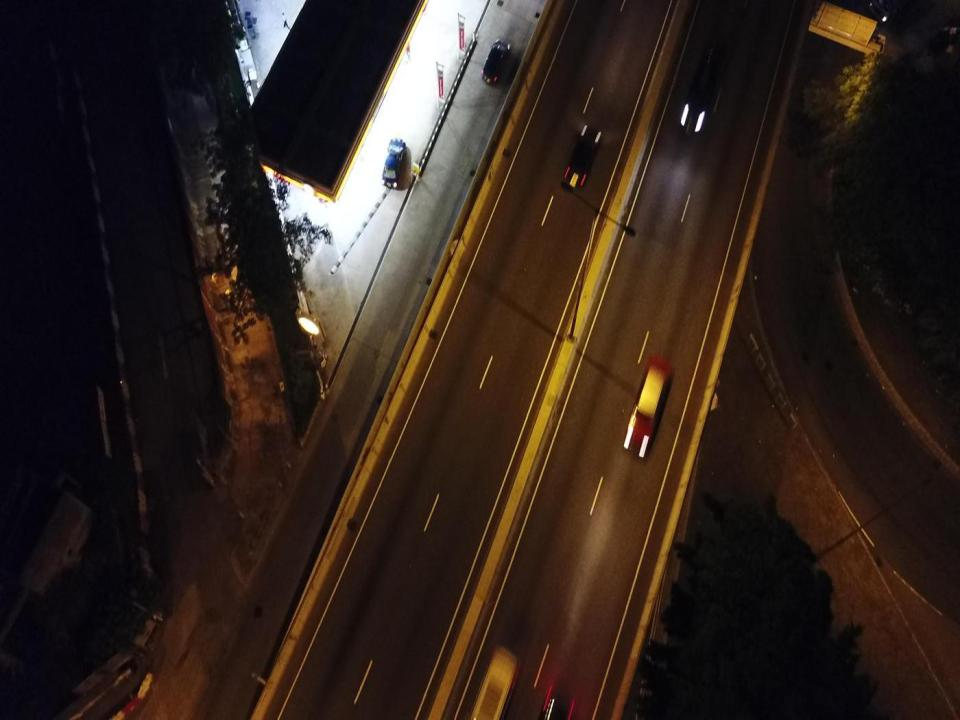car: (627, 354, 674, 459), (680, 42, 728, 134), (560, 122, 602, 188), (381, 138, 408, 188), (484, 39, 510, 86)
van: (467, 649, 518, 719)
